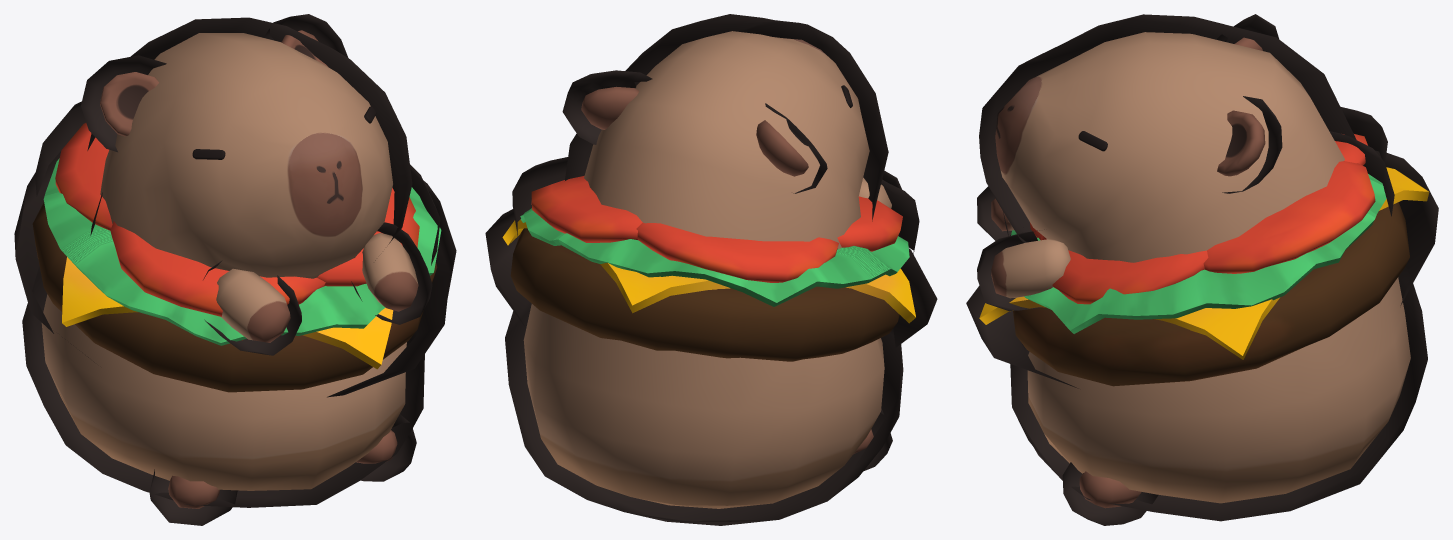
Rendered from capy1.glb.
3 views of the same model, side by side, from view 1: azimuth 30°, elevation 25°; view 2: azimuth 150°, elevation 25°; view 3: azimuth 270°, elevation 25° (orthographic). The views are drawn at different scales.
Visible parts, largest first — view 1: Cube.010, Cube.016, Cylinder.003, Cylinder.005, Cylinder.001, Cube.017, Cylinder.004, Cube.006, Cube.018; view 2: Cube.010, Cube.016, Cylinder.003, Cylinder.001, Cylinder.005, Cylinder.004; view 3: Cube.010, Cube.016, Cylinder.003, Cylinder.001, Cylinder.005, Cylinder.004, Cube.017, Cube.006, Cube.018.
Boxes of the visible parts, x1,y1,x2,y2 form: Cube.010: (41, 30, 406, 508); Cube.016: (14, 14, 456, 525); Cylinder.003: (32, 202, 437, 392); Cylinder.005: (43, 158, 441, 345); Cylinder.001: (55, 123, 419, 316); Cube.017: (216, 233, 418, 342); Cylinder.004: (62, 257, 393, 369); Cube.006: (351, 222, 432, 324); Cube.018: (203, 260, 301, 355); Cube.010: (523, 31, 884, 508); Cube.016: (485, 14, 937, 525); Cylinder.003: (510, 228, 899, 361); Cylinder.001: (531, 176, 902, 282); Cylinder.005: (520, 208, 909, 306); Cylinder.004: (502, 219, 915, 323); Cube.010: (995, 32, 1410, 508); Cube.016: (966, 14, 1438, 525); Cylinder.003: (1013, 202, 1409, 386); Cylinder.001: (1030, 134, 1375, 304); Cylinder.005: (1011, 174, 1386, 333); Cylinder.004: (979, 167, 1429, 359); Cube.017: (991, 198, 1070, 298); Cube.006: (977, 229, 1044, 310); Cube.018: (977, 186, 1011, 240).
Size of the model in its own units: 1.06 by 1.15 by 1.06.
1 material, 1 textured.
